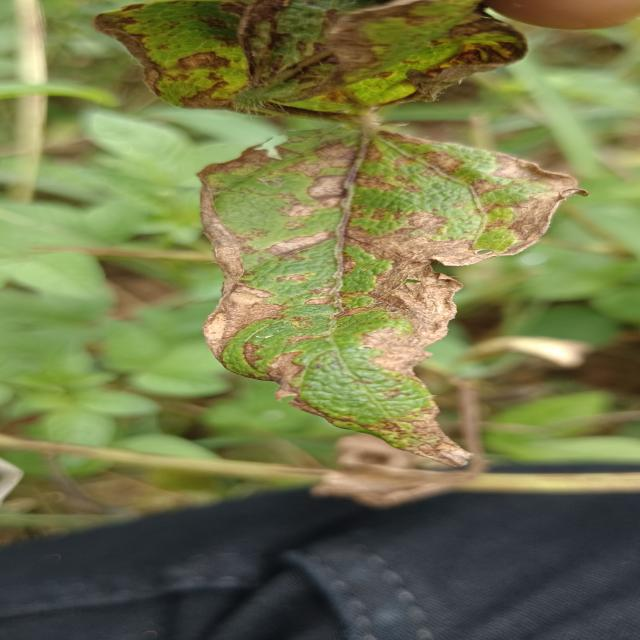Black gram_leaf spot: (189, 123, 607, 477), (91, 0, 537, 119)
